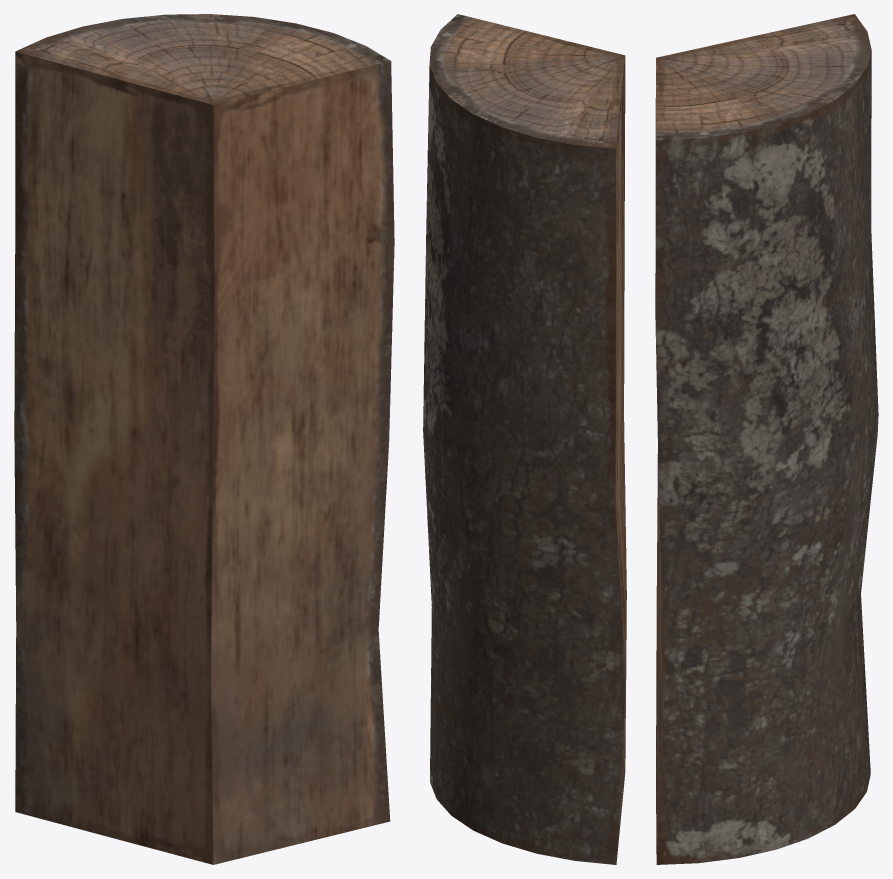
The model's file is SM_WoodLogs_2.fbx.
3 renders of one model, left to right at view 1: azimuth 30°, elevation 25°; view 2: azimuth 150°, elevation 25°; view 3: azimuth 270°, elevation 25°, orthographic. The views are drawn at different scales.
Visible parts, largest first — view 1: SM_WoodLogs_2_LOD0; view 2: SM_WoodLogs_2_LOD0; view 3: SM_WoodLogs_2_LOD0.
Part boxes in pixels (left/top/right/bottom): SM_WoodLogs_2_LOD0: left=14, top=14, right=394, bottom=864; SM_WoodLogs_2_LOD0: left=423, top=14, right=626, bottom=864; SM_WoodLogs_2_LOD0: left=655, top=14, right=878, bottom=864.
Size of the model in its own units: 16.79 by 12.17 by 43.65.
